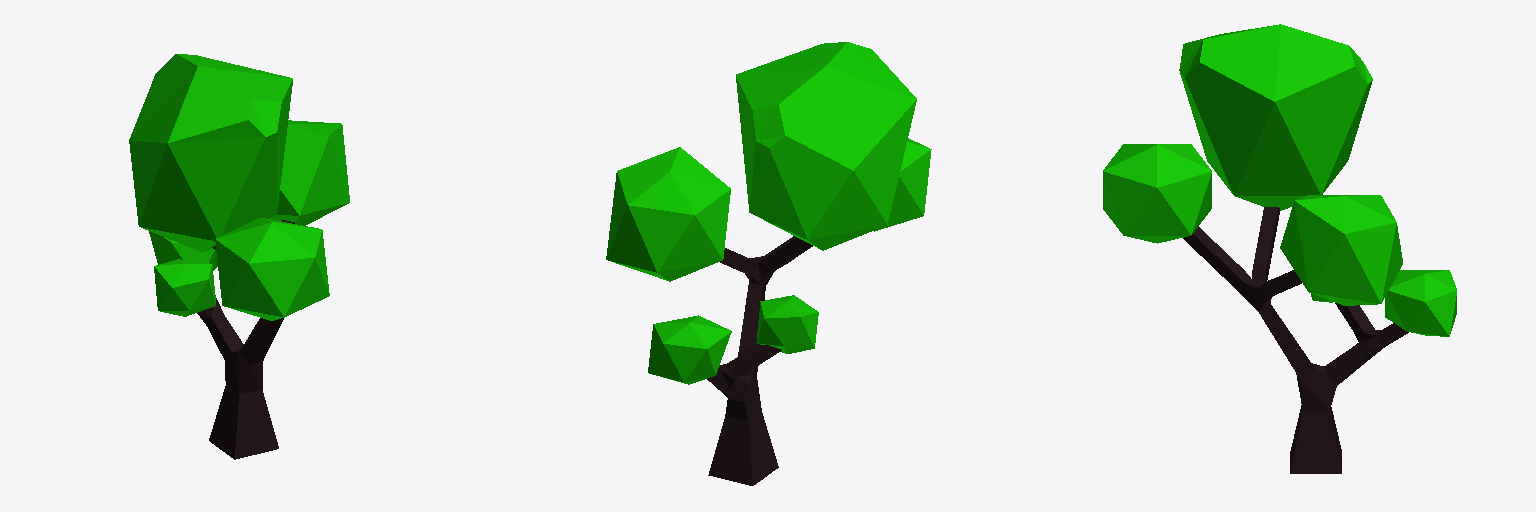
Rendered from dtree6B(F197).obj.
3 views of the same model, side by side, from view 1: azimuth 30°, elevation 25°; view 2: azimuth 150°, elevation 25°; view 3: azimuth 270°, elevation 25° (orthographic).
Parts seen in each view (by area): view 1: Icosphere.039, Icosphere.040, Cube.009, Icosphere.038, Icosphere.036, Icosphere.037; view 2: Icosphere.039, Icosphere.038, Cube.009, Icosphere.037, Icosphere.036, Icosphere.040; view 3: Icosphere.039, Cube.009, Icosphere.038, Icosphere.040, Icosphere.037.
Boxes of the visible parts, box(x1,y1,x2,y2) form: Icosphere.039: box(129, 54, 292, 251); Icosphere.040: box(215, 218, 329, 320); Cube.009: box(197, 220, 294, 459); Icosphere.038: box(269, 120, 349, 225); Icosphere.036: box(154, 259, 215, 316); Icosphere.037: box(149, 231, 217, 270); Icosphere.039: box(736, 42, 916, 250); Icosphere.038: box(606, 147, 730, 281); Cube.009: box(707, 236, 812, 485); Icosphere.037: box(648, 315, 731, 384); Icosphere.036: box(756, 295, 818, 353); Icosphere.040: box(874, 138, 931, 231); Icosphere.039: box(1179, 24, 1372, 210); Cube.009: box(1183, 207, 1408, 473); Icosphere.038: box(1280, 195, 1402, 305); Icosphere.040: box(1103, 144, 1211, 243); Icosphere.037: box(1385, 270, 1456, 336).
Bounding box in the file's own units: 1.39 × 2.28 × 1.8.